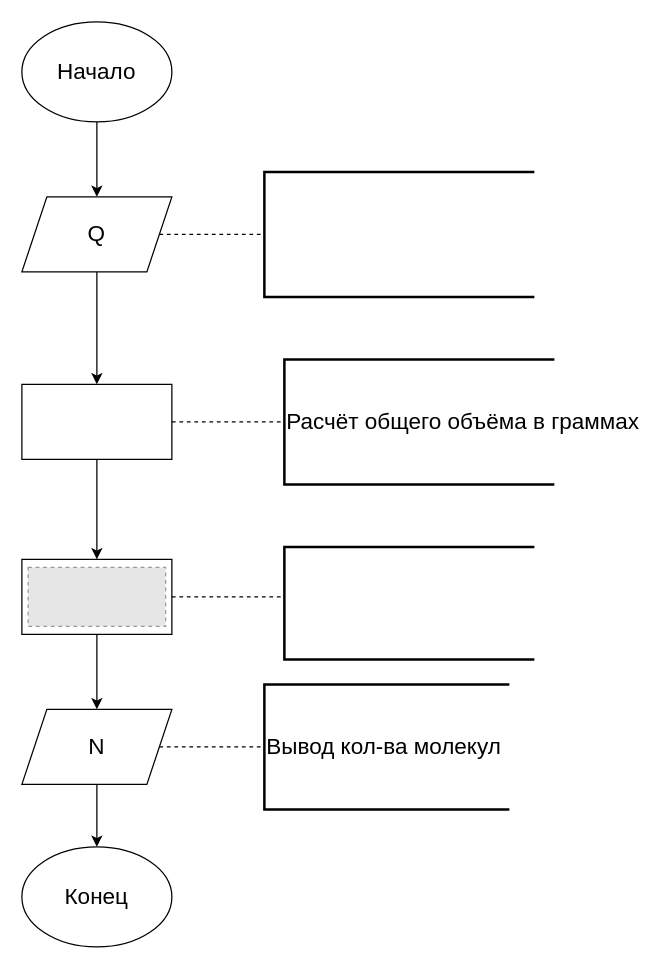
Image size: 661x969. Some labels were removed from this diagram. Grey dashed boxes stand in for pictures. Here are the shapes that lost their labels. From the top down, the centre of each, then its label:
point 398,234: Ввод объёма воды в квартах
point 96,421: M = Q * 950
point 408,602: Расчёт кол-ва молекул
